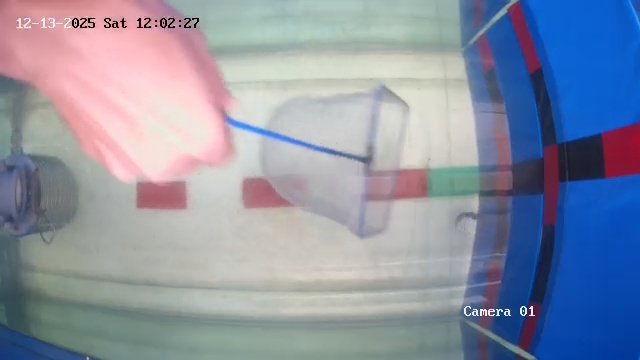fish: (452, 207, 493, 242)
